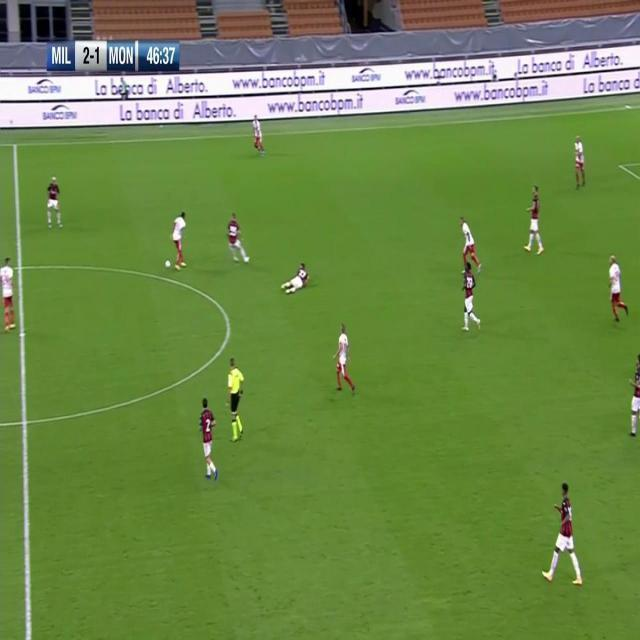ball: (164, 257, 172, 271)
player: (542, 487, 584, 591), (198, 397, 221, 480), (607, 254, 631, 324), (334, 324, 357, 397), (461, 261, 482, 335), (524, 183, 545, 257), (459, 215, 484, 274), (1, 255, 18, 333), (226, 211, 250, 265), (627, 355, 640, 441), (282, 260, 311, 298), (45, 172, 63, 232), (170, 210, 188, 269), (573, 134, 587, 191), (251, 113, 267, 156)
referee: (227, 356, 247, 443)
